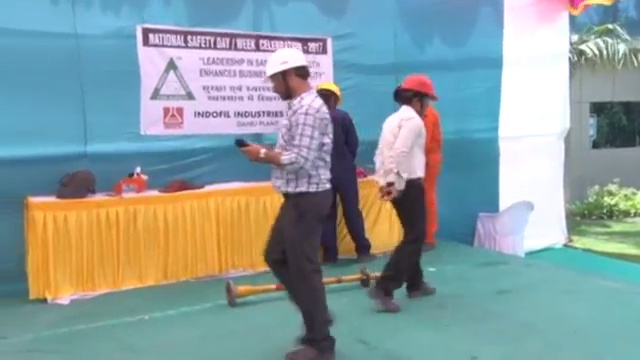helmet: (264, 47, 309, 79), (399, 74, 441, 104), (315, 79, 344, 99)
helmet_on: (264, 47, 311, 101), (396, 73, 441, 119), (314, 77, 345, 113)
person: (234, 47, 338, 360), (372, 74, 436, 309), (313, 76, 378, 263), (412, 94, 443, 250)
